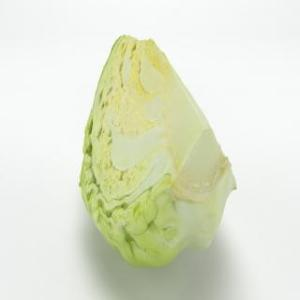cabbage: (75, 32, 237, 268)
